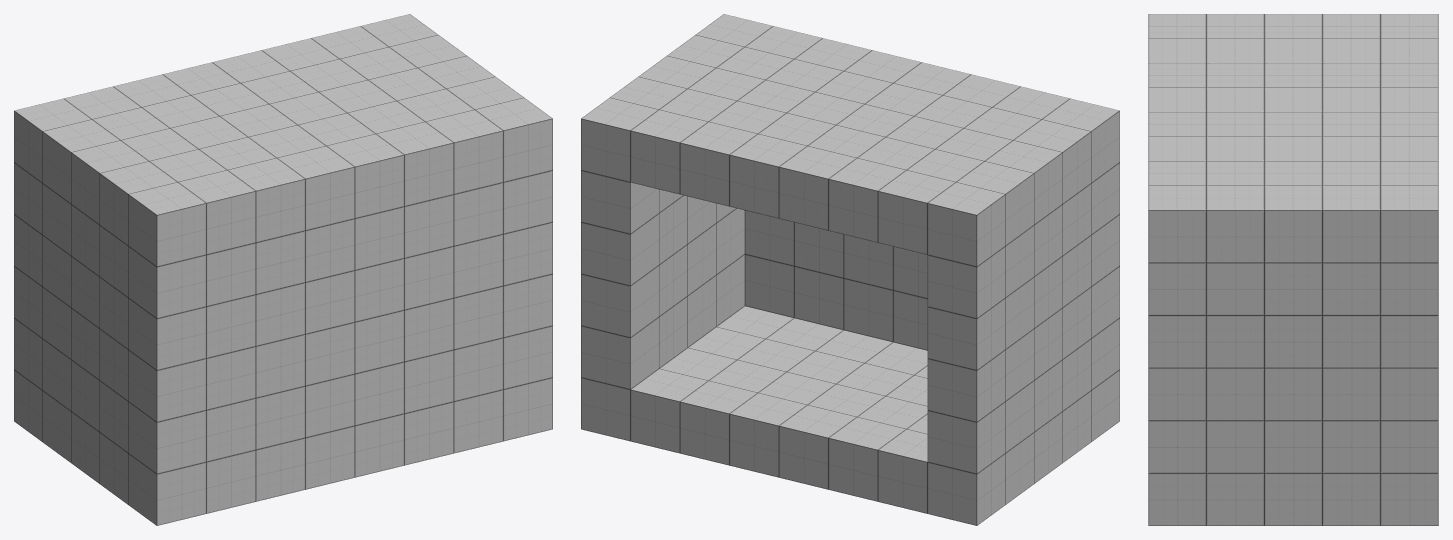
The model's file is Durka (1).fbx.
3 renders of one model, left to right at view 1: azimuth 30°, elevation 25°; view 2: azimuth 150°, elevation 25°; view 3: azimuth 270°, elevation 25°, orthographic.
Parts seen in each view (by area): view 1: Box3026; view 2: Box3026; view 3: Box3026.
Boxes of the visible parts, x1,y1,x2,y2 form: Box3026: (14, 14, 552, 525); Box3026: (581, 14, 1119, 525); Box3026: (1148, 14, 1438, 525).
Size of the model in its own units: 16 by 10 by 12.
